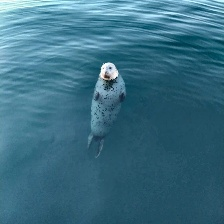seal: (87, 62, 127, 159)
